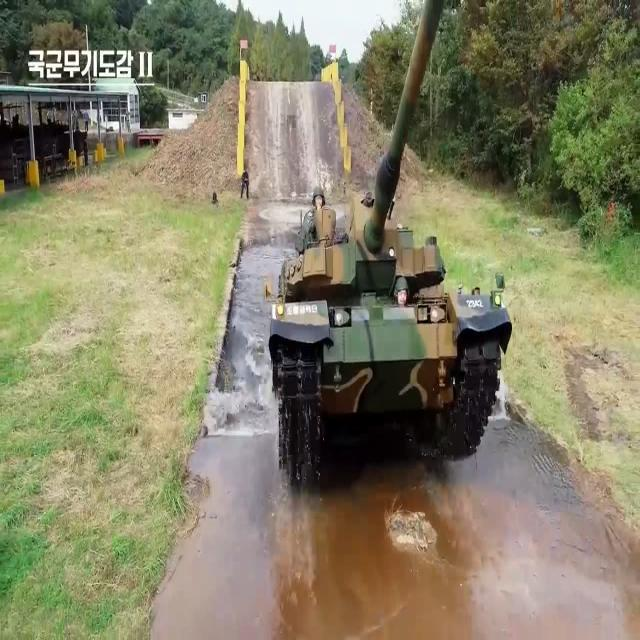korea tank: (262, 1, 516, 468)
